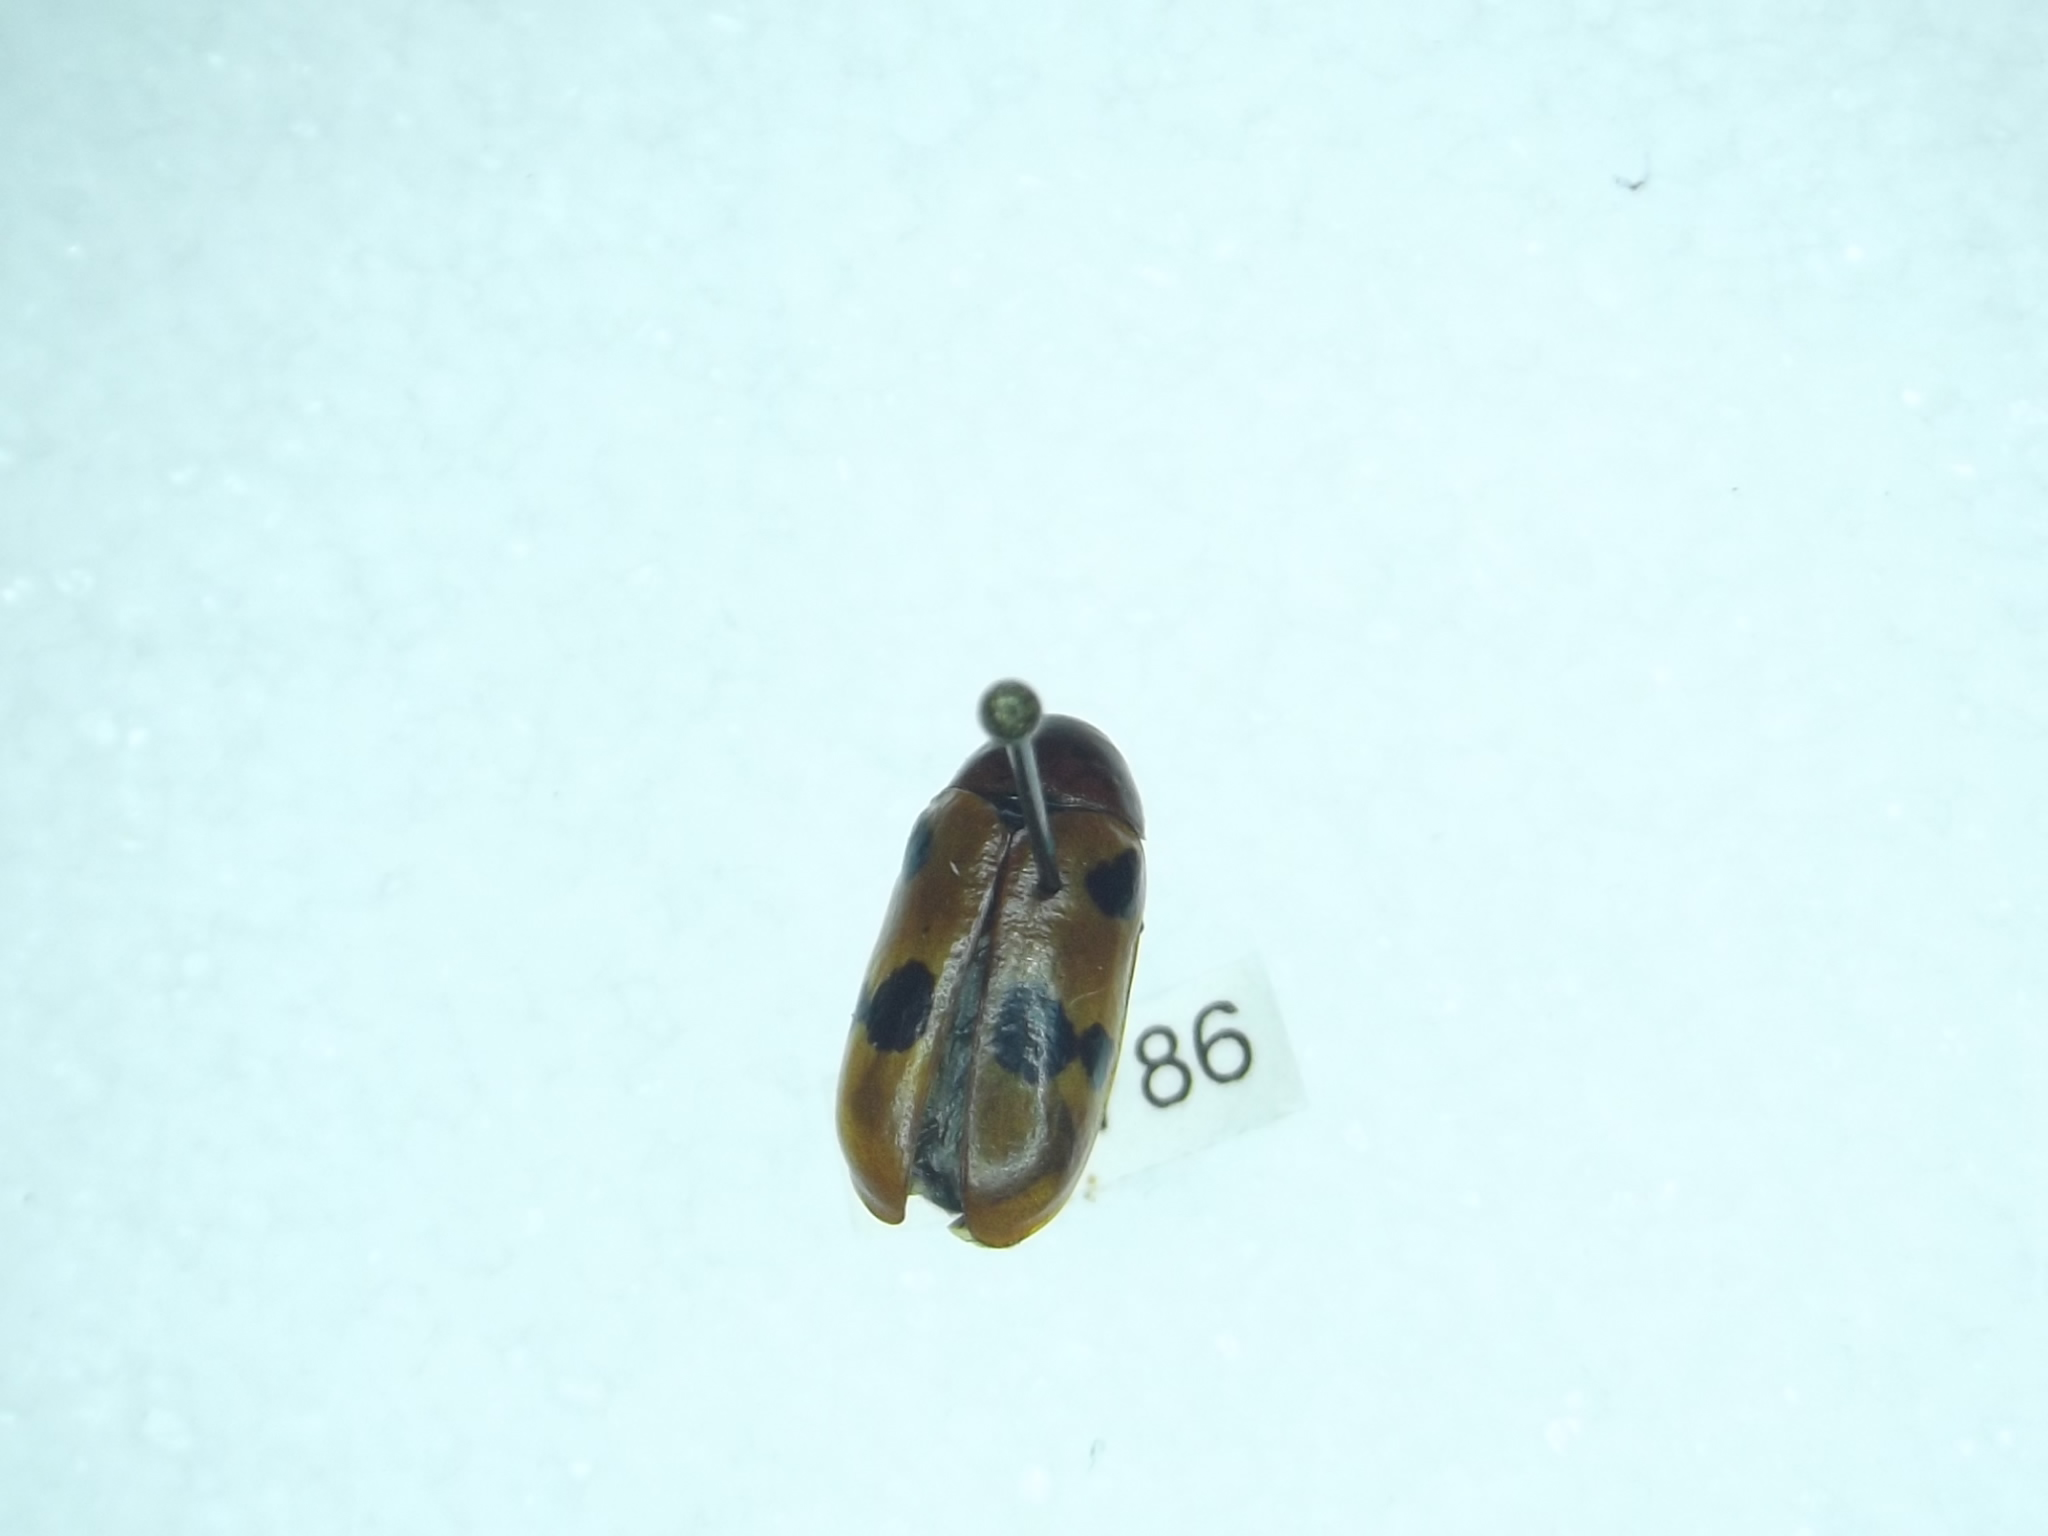Clytra_novempunctata: (827, 694, 1163, 1270)
